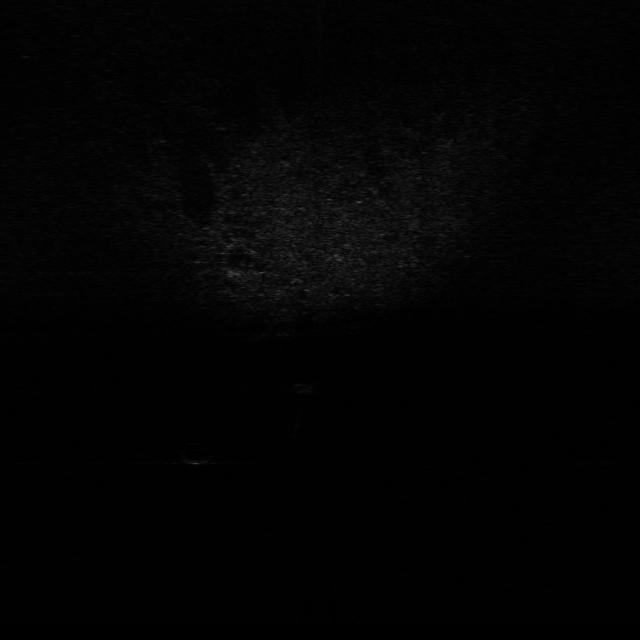ball: (174, 439, 220, 468)
cube: (291, 375, 323, 398)
